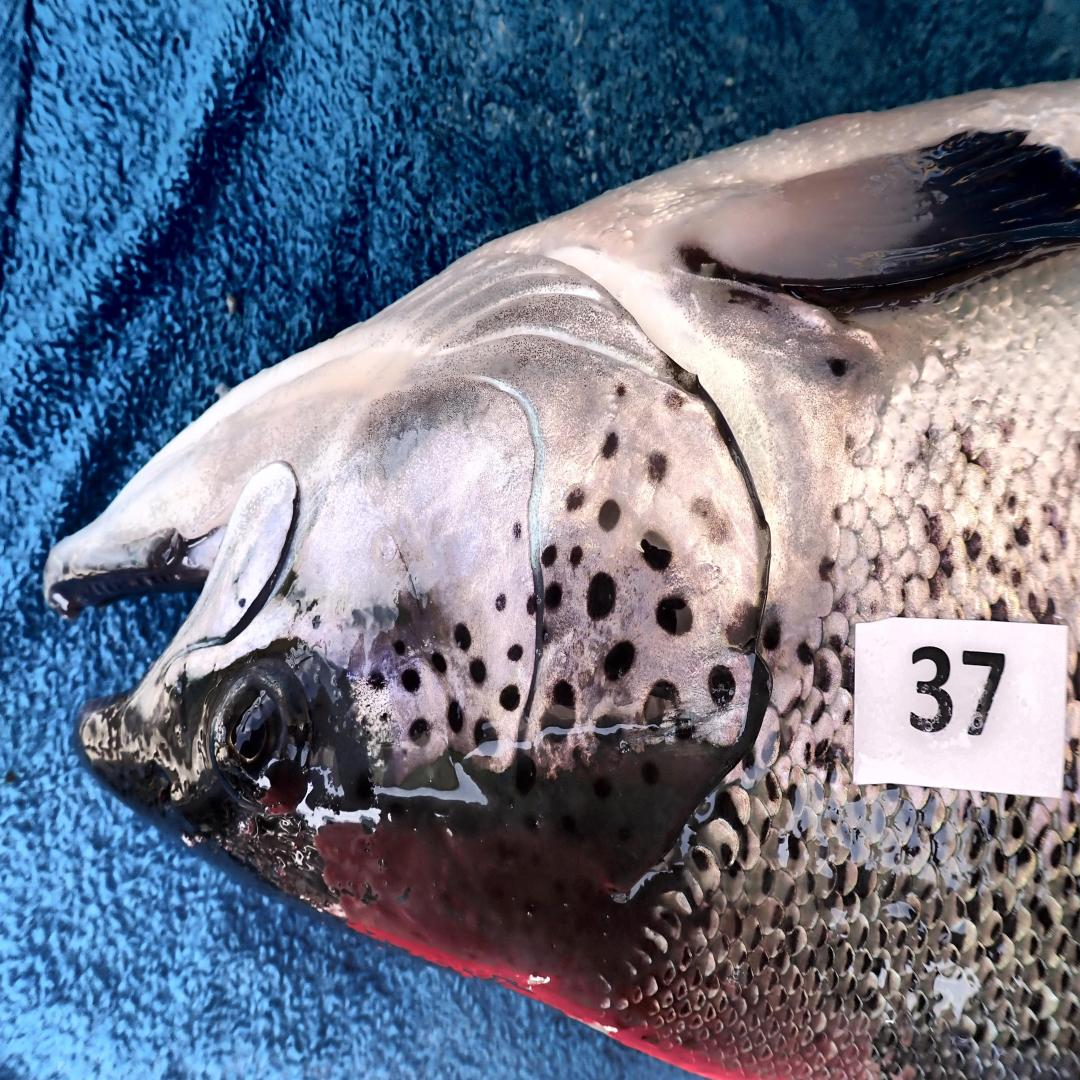spot: (542, 681, 576, 737), (643, 681, 679, 728), (691, 497, 729, 541), (593, 706, 635, 745), (725, 605, 759, 648), (656, 596, 692, 636), (586, 574, 616, 619), (603, 641, 635, 681), (641, 532, 673, 571), (709, 667, 736, 709), (475, 717, 498, 757), (599, 501, 620, 532), (500, 683, 521, 712), (372, 604, 396, 629), (648, 453, 667, 484), (409, 717, 430, 745), (447, 700, 464, 734), (601, 430, 620, 458), (544, 582, 563, 610), (565, 487, 584, 512), (468, 658, 487, 683), (664, 391, 686, 411), (401, 669, 420, 692), (517, 709, 529, 745), (454, 624, 470, 650), (430, 652, 447, 675), (367, 671, 386, 691), (542, 546, 557, 568), (352, 608, 369, 627), (378, 744, 392, 765), (676, 723, 693, 739), (570, 546, 582, 568), (508, 644, 523, 661), (392, 638, 407, 655), (525, 593, 536, 616), (614, 382, 626, 399), (513, 520, 523, 540), (496, 593, 506, 610), (379, 712, 390, 723), (313, 615, 320, 629)
